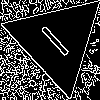I: (31, 16, 72, 59)
